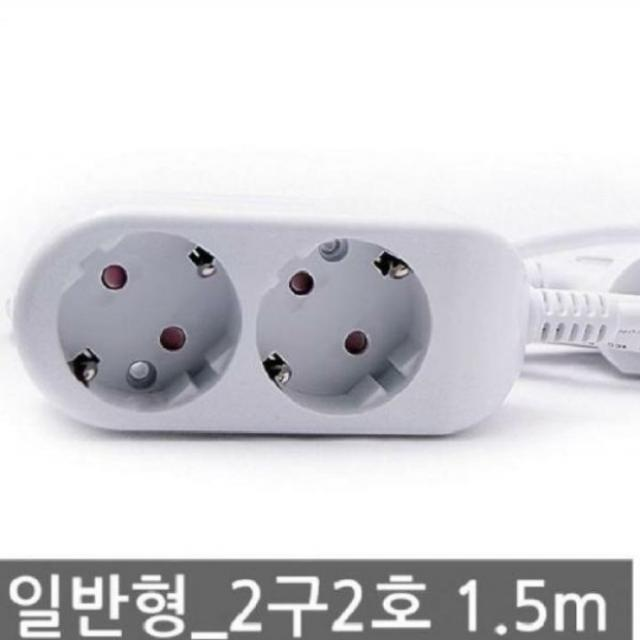typeb: (0, 200, 545, 460)
